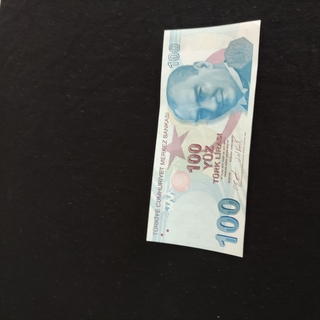100TLFront: (145, 18, 261, 258)
